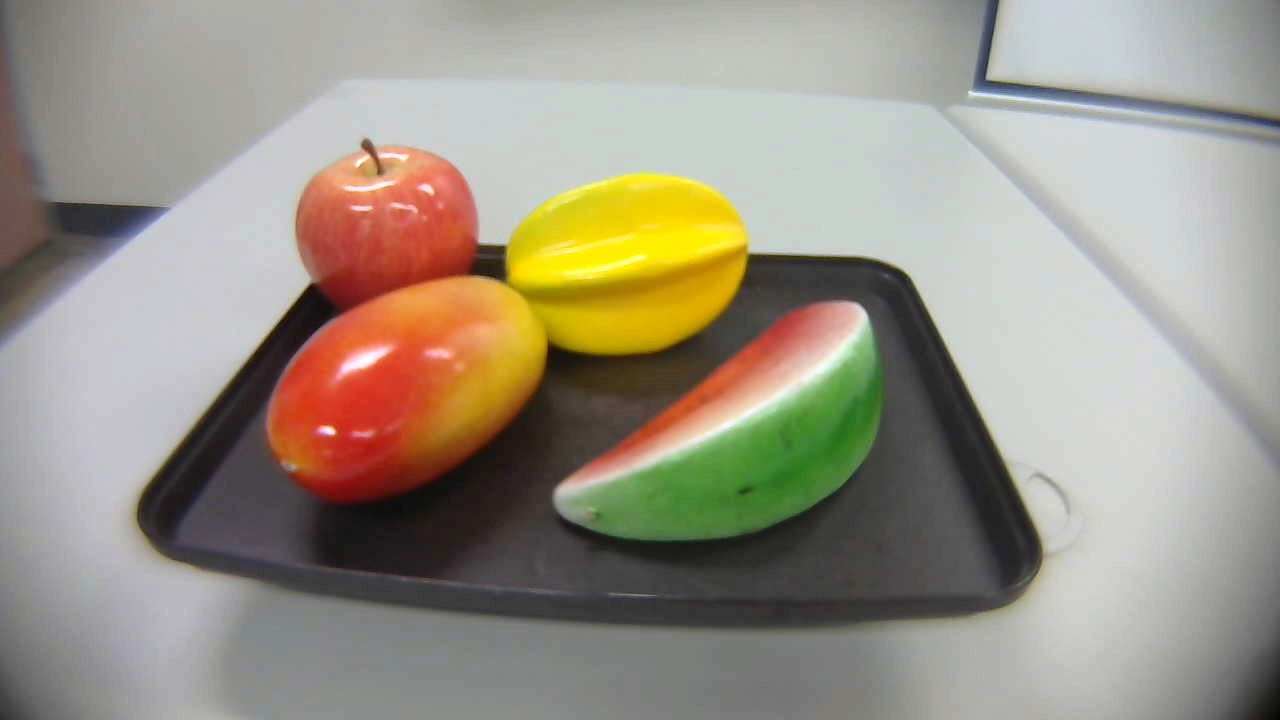red apple: (272, 128, 487, 319)
red mango: (262, 273, 560, 513)
star fruit: (500, 161, 747, 364)
water melon: (548, 294, 887, 556)
